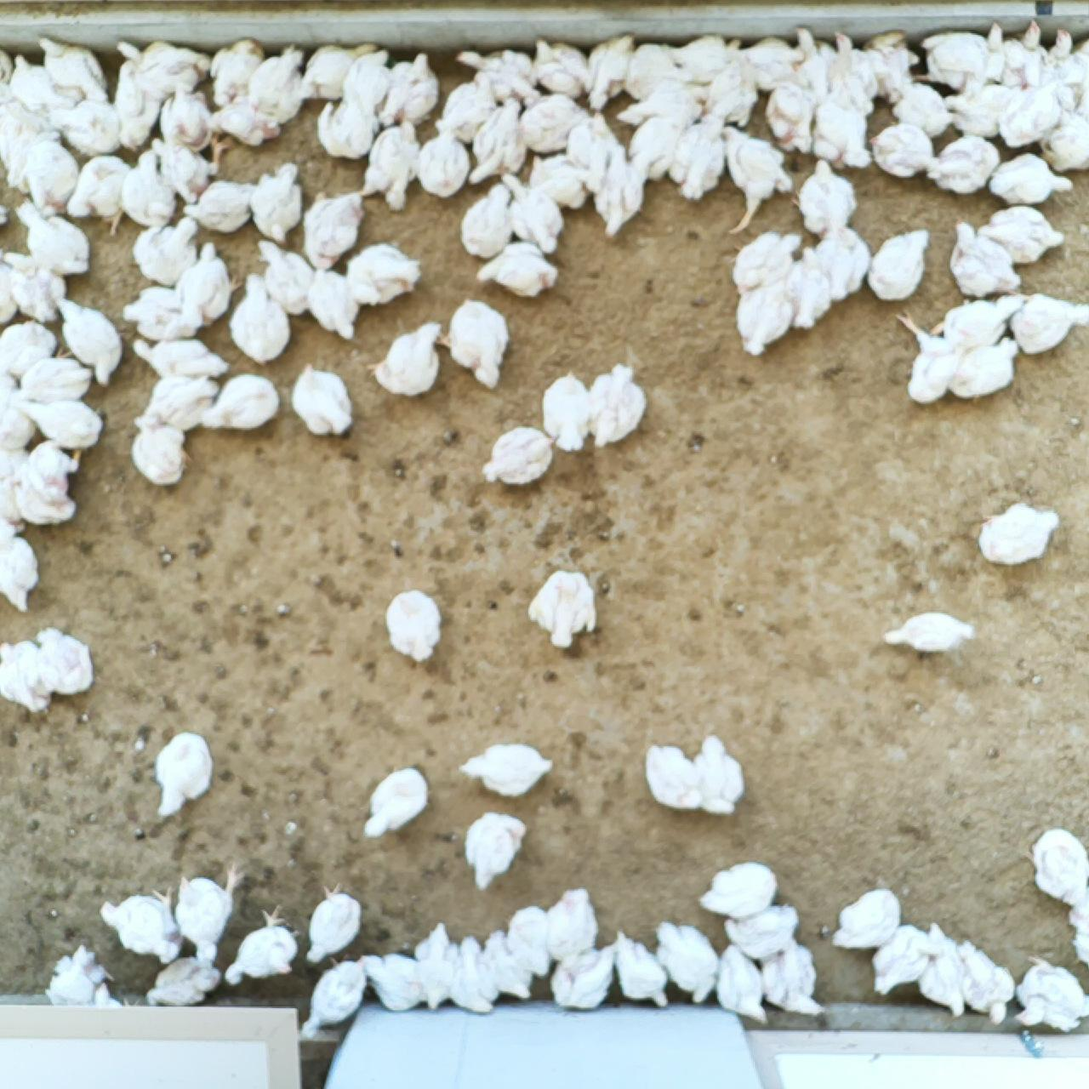chicken: (721, 121, 797, 237), (869, 44, 955, 143), (170, 861, 248, 966), (891, 302, 966, 407), (436, 296, 514, 394), (110, 29, 215, 100), (223, 901, 301, 990), (296, 953, 372, 1044), (40, 945, 135, 1015), (19, 386, 114, 456), (363, 318, 442, 402), (129, 209, 206, 295), (525, 568, 604, 651), (948, 220, 1021, 309), (178, 238, 245, 334), (357, 117, 425, 210), (455, 43, 548, 110), (1003, 290, 1089, 362), (918, 22, 1006, 92), (59, 300, 127, 390), (229, 272, 294, 366), (460, 93, 527, 184), (299, 185, 369, 272), (105, 887, 182, 966), (17, 197, 93, 277), (119, 281, 213, 345), (733, 270, 801, 358), (1, 99, 65, 192), (241, 41, 310, 127), (63, 151, 140, 228), (973, 202, 1067, 265), (916, 920, 974, 1022), (1012, 955, 1089, 1031), (35, 33, 114, 107), (125, 334, 235, 387), (197, 374, 284, 441), (865, 225, 934, 309), (978, 499, 1063, 567), (467, 239, 562, 299), (502, 168, 566, 257), (114, 144, 181, 229), (457, 740, 555, 798), (305, 90, 381, 164), (345, 237, 425, 307), (763, 937, 832, 1018), (584, 363, 646, 453), (132, 408, 200, 490), (308, 38, 379, 115), (252, 234, 318, 316), (244, 161, 306, 248), (619, 41, 708, 101), (301, 883, 365, 966), (794, 158, 858, 241), (654, 920, 717, 1004), (595, 137, 644, 245), (155, 730, 215, 818), (516, 92, 591, 162), (549, 939, 618, 1015), (807, 225, 873, 304), (376, 53, 441, 133), (668, 116, 729, 201), (727, 229, 806, 294), (361, 767, 430, 841), (938, 83, 1027, 140), (989, 150, 1076, 208), (869, 921, 932, 1001), (624, 111, 691, 186), (201, 90, 287, 148), (994, 72, 1057, 151), (182, 178, 263, 239), (480, 424, 556, 489), (544, 886, 601, 972), (1027, 828, 1089, 907), (612, 926, 670, 1010), (829, 887, 901, 954), (959, 938, 1016, 1022), (695, 862, 780, 918), (458, 177, 514, 262), (59, 90, 126, 161), (379, 51, 444, 124), (617, 78, 708, 130), (293, 362, 356, 437), (11, 50, 81, 117), (948, 337, 1019, 403), (29, 630, 97, 698), (448, 932, 503, 1016), (143, 955, 224, 1012), (1, 472, 82, 529), (19, 351, 100, 408), (359, 948, 430, 1013), (539, 369, 590, 458), (157, 82, 219, 155), (303, 265, 361, 343), (8, 249, 66, 327), (26, 130, 78, 217), (880, 610, 978, 656), (780, 244, 830, 334), (19, 436, 85, 504), (384, 587, 442, 664), (726, 898, 803, 956), (735, 31, 812, 89), (569, 106, 619, 194), (142, 373, 225, 425), (641, 743, 704, 811), (1, 641, 57, 716), (481, 928, 538, 1001), (1, 516, 43, 615), (433, 77, 495, 144), (695, 733, 745, 815), (671, 24, 744, 80), (586, 32, 636, 113), (216, 32, 267, 111), (704, 60, 761, 130), (529, 146, 589, 212), (343, 48, 394, 124), (1, 317, 57, 385), (416, 920, 457, 1012), (869, 120, 935, 177), (416, 130, 472, 197), (114, 70, 162, 147), (827, 32, 873, 112), (931, 140, 1001, 191), (534, 38, 590, 100), (505, 908, 554, 978), (1004, 20, 1055, 82), (793, 28, 835, 99), (1044, 112, 1089, 175), (1, 443, 36, 521), (1, 385, 41, 453), (500, 72, 551, 116), (1046, 26, 1080, 87), (1066, 881, 1089, 966), (1069, 31, 1089, 108), (1, 250, 21, 324), (1, 44, 14, 86), (1, 198, 13, 237)
